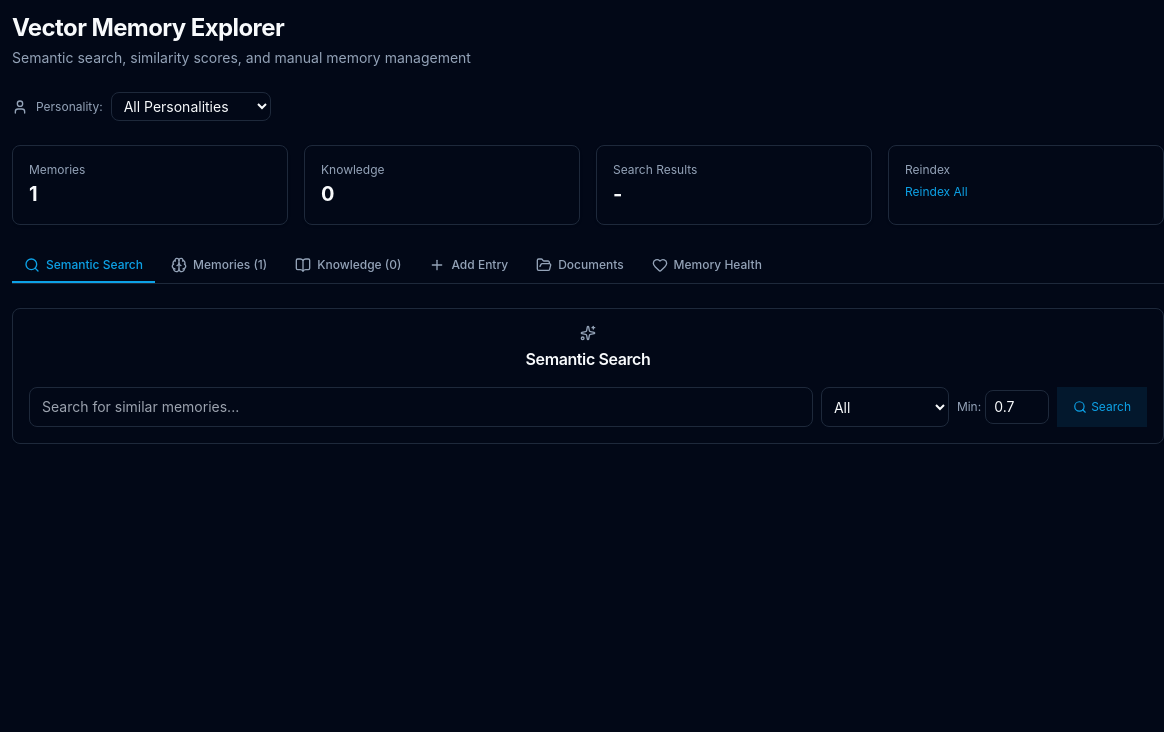
VectorMemoryExplorerPage › shows search error when search fails
This screenshot has width=1164, height=732.
In the field with placeholder "Search for similar memories...": (421, 407) [29,387,813,427], type "test"
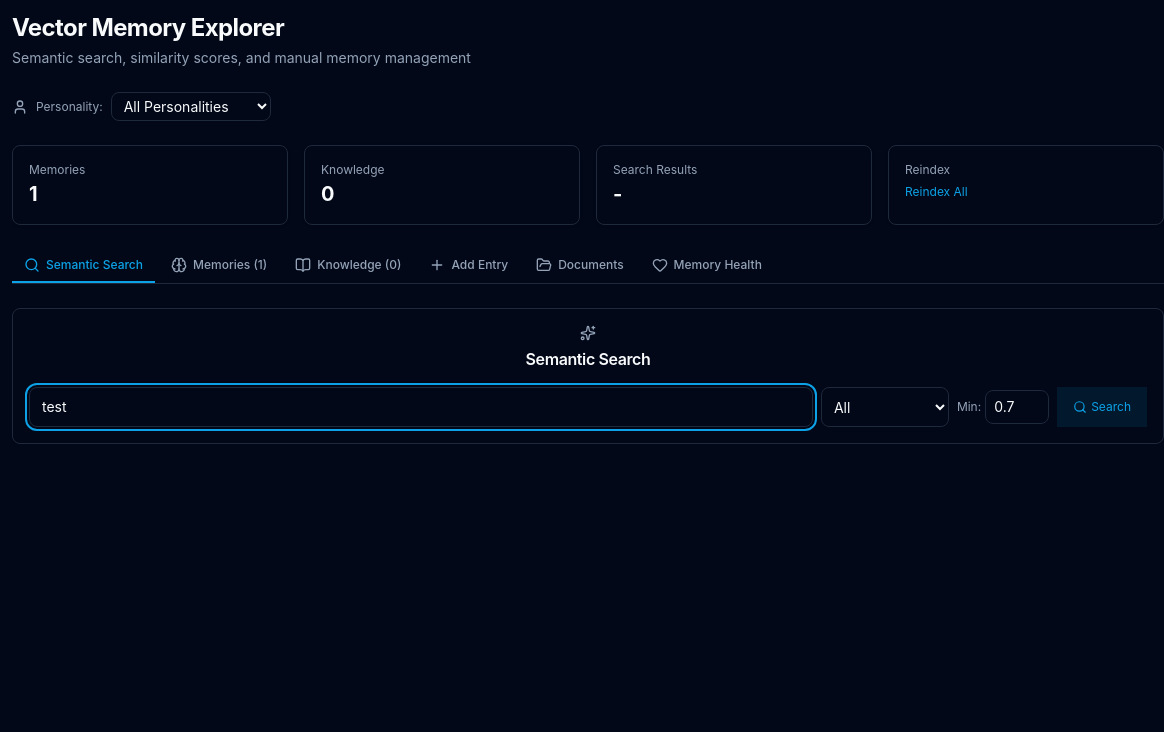
Click the button "Search": click(1102, 407) [1057,387,1147,427]
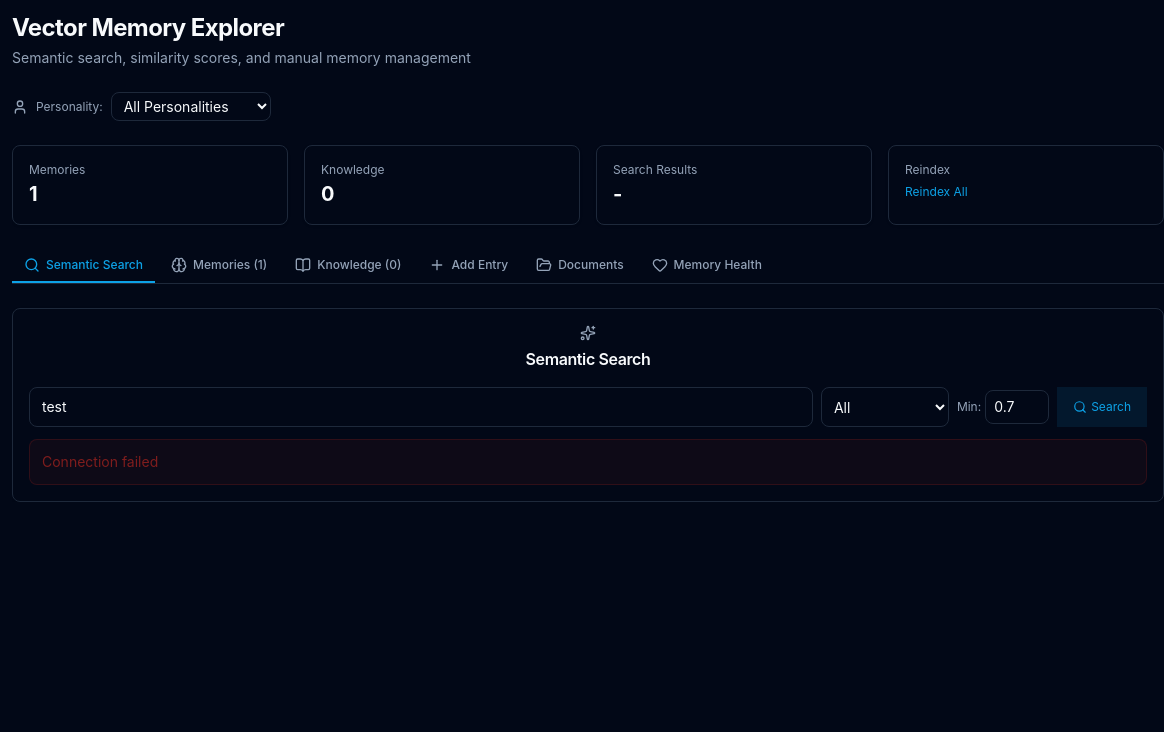
Result: the text "Connection failed" is shown at [29,439,1147,485]
